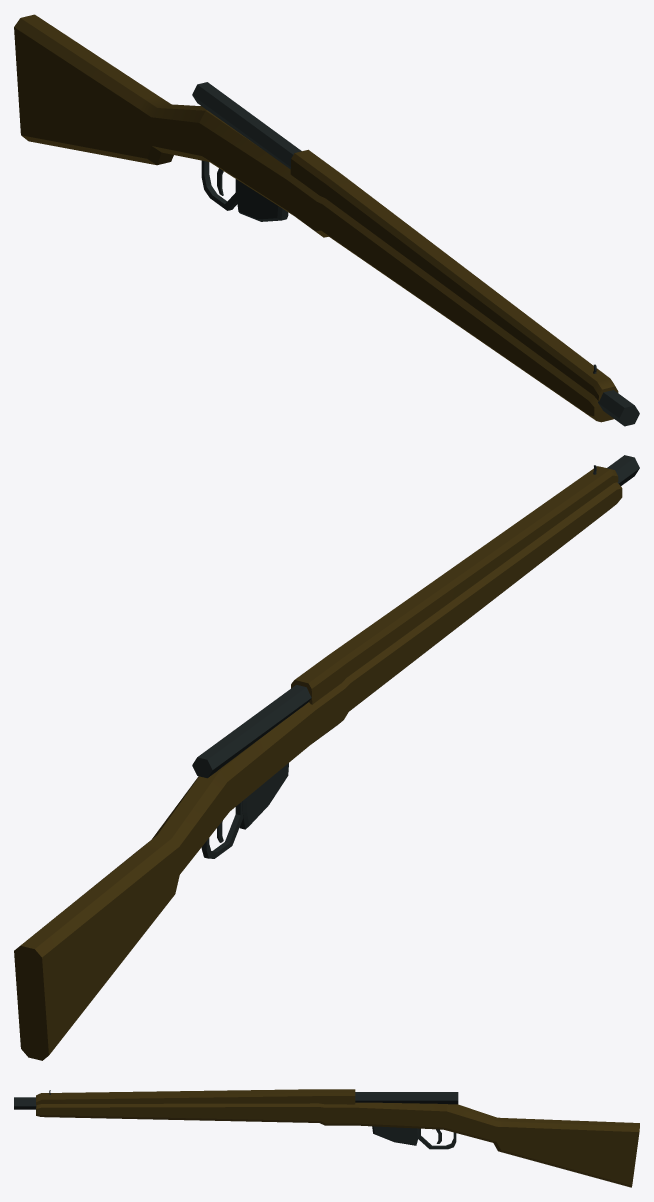
Rendered from Sniper_Barrel.fbx.
The picture shows the model from 3 angles, top to bottom: view 1: azimuth 30°, elevation 25°; view 2: azimuth 150°, elevation 25°; view 3: azimuth 270°, elevation 25°; orthographic projection. The views are drawn at different scales.
Parts seen in each view (by area): view 1: Sniper; view 2: Sniper; view 3: Sniper.
Part boxes in pixels (<box>): Sniper: <box>14,14,639,426</box>; Sniper: <box>14,455,639,1060</box>; Sniper: <box>14,1089,639,1187</box>.
Size of the model in its own units: 0.0307 by 0.1922 by 1.14.
